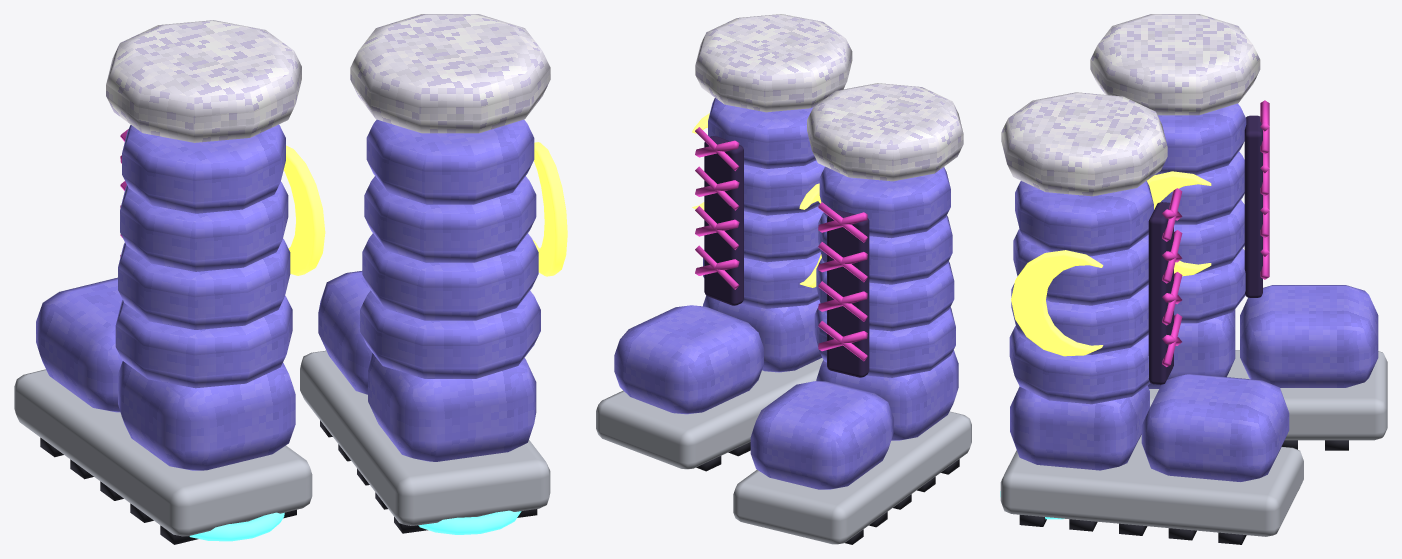
File: x_moonboots.glb
3 views of the same model, side by side, from view 1: azimuth 30°, elevation 25°; view 2: azimuth 150°, elevation 25°; view 3: azimuth 270°, elevation 25° (orthographic). The views are drawn at different scales.
Visible parts, largest first — view 1: boot_l, boot_r; view 2: boot_l, boot_r; view 3: boot_r, boot_l.
Boxes of the visible parts, x1,y1,x2,y2 form: boot_l: [14, 20, 325, 544]; boot_r: [300, 14, 567, 534]; boot_l: [733, 83, 971, 544]; boot_r: [596, 14, 852, 471]; boot_r: [1000, 92, 1303, 544]; boot_l: [1090, 14, 1387, 450].
Size of the model in its own units: 0.4102 by 0.461 by 0.4196.
8 materials, 2 textured.
